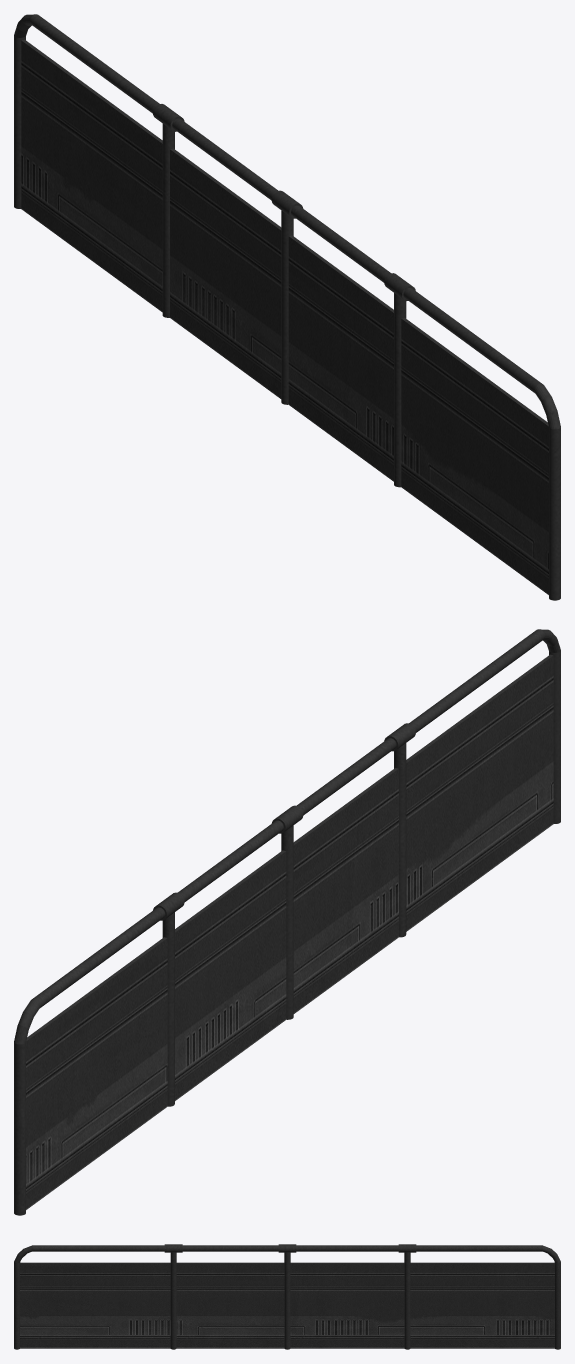
File: Map_Safety_Barrier.fbx
3 views of the same model, one above another, from view 1: azimuth 30°, elevation 25°; view 2: azimuth 150°, elevation 25°; view 3: azimuth 270°, elevation 25° (orthographic). The views are drawn at different scales.
Visible parts, largest first — view 1: Map_Safety_Barrier; view 2: Map_Safety_Barrier; view 3: Map_Safety_Barrier.
Part boxes in pixels (box(x1,y1,x2,y2)): Map_Safety_Barrier: box(14, 14, 560, 600); Map_Safety_Barrier: box(14, 629, 560, 1215); Map_Safety_Barrier: box(14, 1244, 560, 1349).
Size of the model in its own units: 9.39 by 130 by 622.
Materials: 1 (1 with a texture image).
